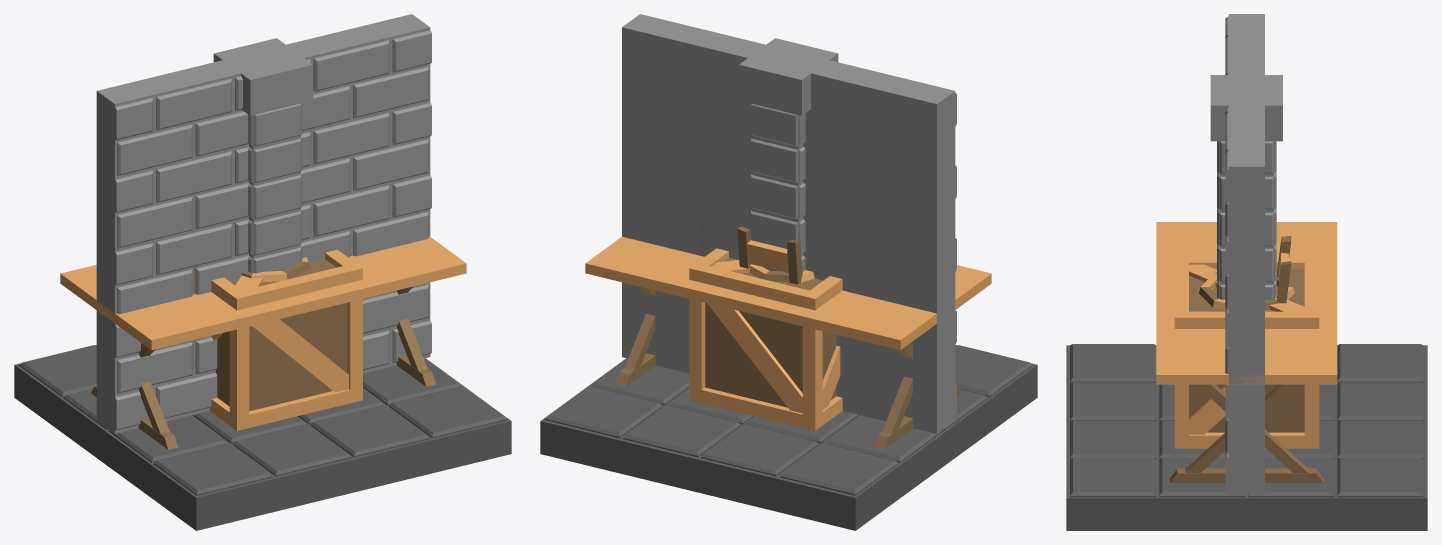
The model's file is Assets.fbx.
The picture shows the model from 3 angles, left to right: view 1: azimuth 30°, elevation 25°; view 2: azimuth 150°, elevation 25°; view 3: azimuth 270°, elevation 25°; orthographic projection.
Parts seen in each view (by area): view 1: BrickWall, FloorTile, Crate, Table, Column, Barrel; view 2: BrickWall, FloorTile, Crate, Table, Column, Chair, Barrel; view 3: FloorTile, BrickWall, Table, Crate, Column, Chair, Barrel.
Boxes of the visible parts, left/top/right/bottom form: BrickWall: left=96, top=14, right=431, bottom=433; FloorTile: left=14, top=345, right=511, bottom=530; Crate: left=209, top=249, right=362, bottom=430; Table: left=60, top=237, right=466, bottom=449; Column: left=213, top=38, right=313, bottom=273; Barrel: left=241, top=257, right=309, bottom=282; BrickWall: left=622, top=14, right=956, bottom=433; FloorTile: left=540, top=345, right=1037, bottom=530; Crate: left=689, top=248, right=842, bottom=430; Table: left=585, top=236, right=991, bottom=449; Column: left=739, top=38, right=838, bottom=271; Chair: left=737, top=226, right=802, bottom=284; Barrel: left=749, top=264, right=814, bottom=282; FloorTile: left=1066, top=344, right=1427, bottom=530; BrickWall: left=1225, top=14, right=1264, bottom=494; Table: left=1156, top=222, right=1337, bottom=482; Crate: left=1174, top=256, right=1319, bottom=448; Column: left=1210, top=75, right=1282, bottom=299; Chair: left=1277, top=235, right=1291, bottom=303; Barrel: left=1199, top=272, right=1294, bottom=310.
Bounding box in the file's own units: 200 × 222 × 200.
